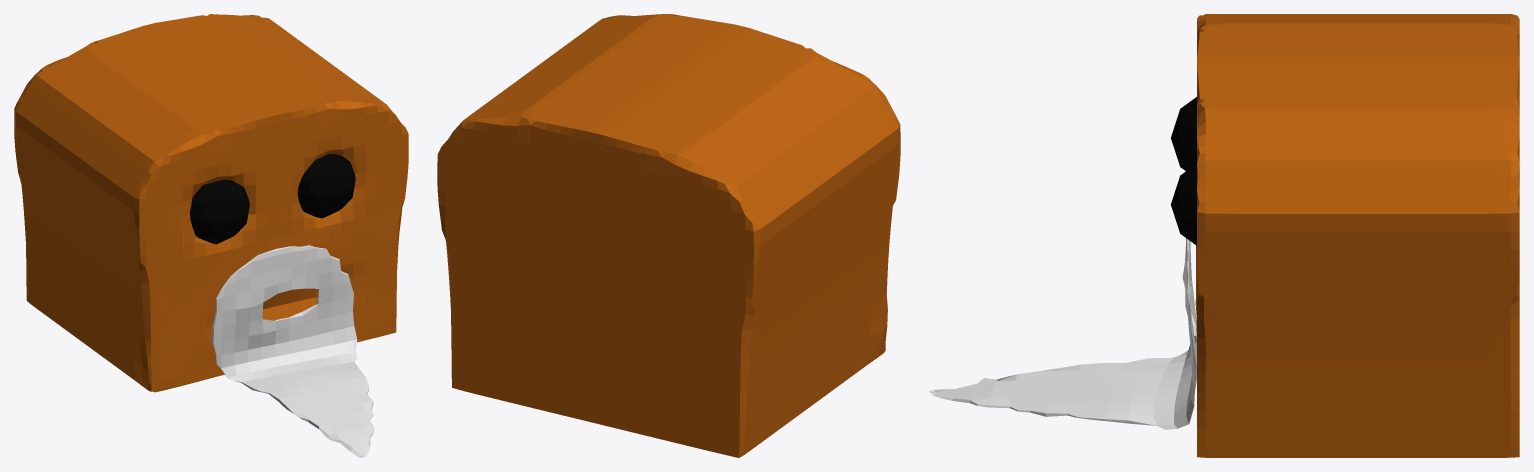
File: SenseiBread.fbx
3 views of the same model, side by side, from view 1: azimuth 30°, elevation 25°; view 2: azimuth 150°, elevation 25°; view 3: azimuth 270°, elevation 25° (orthographic). The views are drawn at different scales.
Parts seen in each view (by area): view 1: Plane; view 2: Plane; view 3: Plane.
Boxes of the visible parts, x1,y1,x2,y2 form: Plane: (14,14,408,457); Plane: (437,14,900,457); Plane: (929,14,1519,457).
Size of the model in its own units: 1.97 by 1.82 by 2.86.
